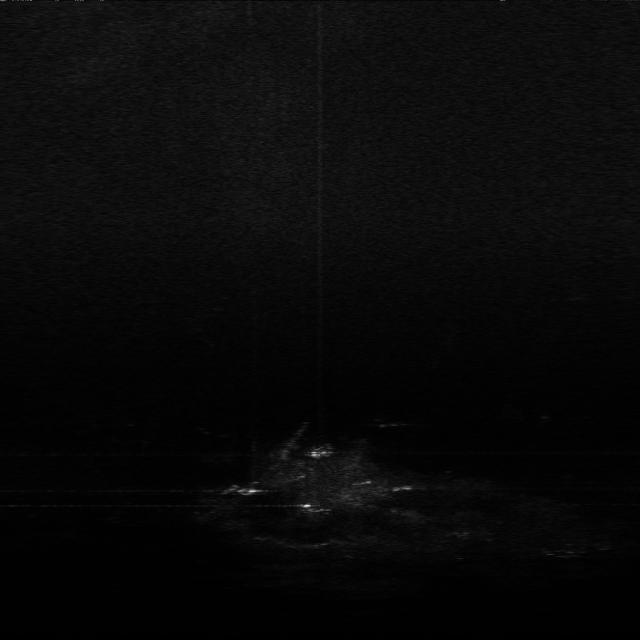rov: (306, 442, 336, 460)
